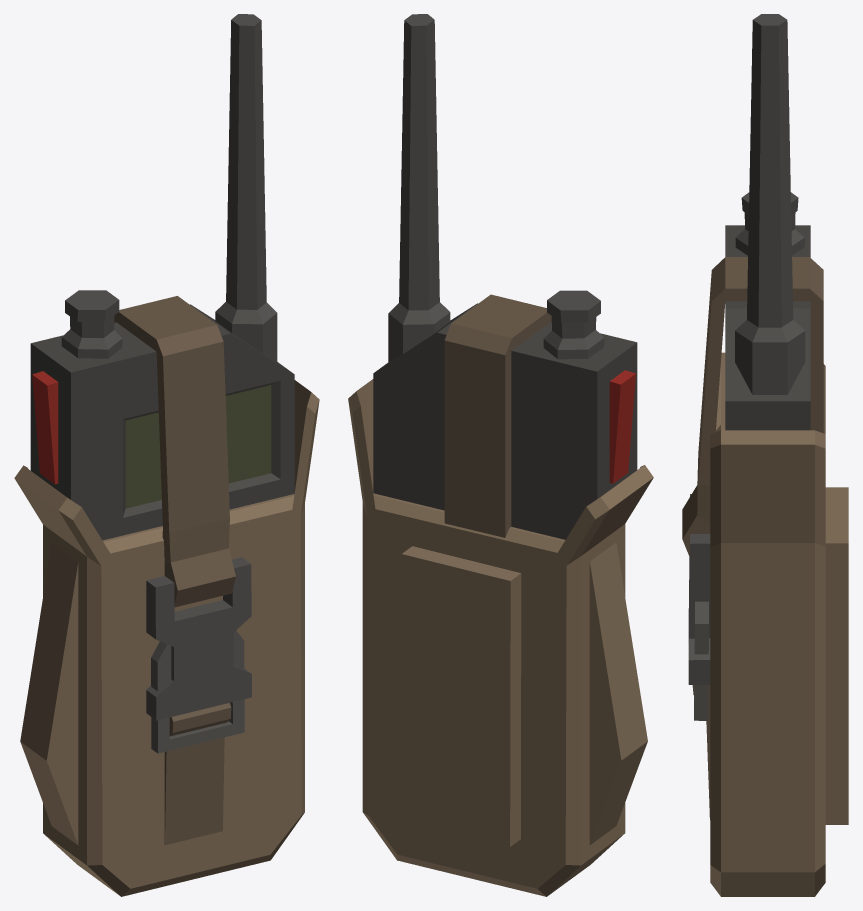
The model's file is Radio_Pouch_01_SM.FBX.
3 views of the same model, side by side, from view 1: azimuth 30°, elevation 25°; view 2: azimuth 150°, elevation 25°; view 3: azimuth 270°, elevation 25° (orthographic). The views are drawn at different scales.
Visible parts, largest first — view 1: Radio_Pouch_01_SM; view 2: Radio_Pouch_01_SM; view 3: Radio_Pouch_01_SM.
Part boxes in pixels (x1,y1,x2,y2): Radio_Pouch_01_SM: (14, 14, 319, 896); Radio_Pouch_01_SM: (348, 14, 653, 896); Radio_Pouch_01_SM: (682, 14, 848, 896).
Size of what is drawn, in the model's own units: 7.56 by 3.87 by 22.55.
